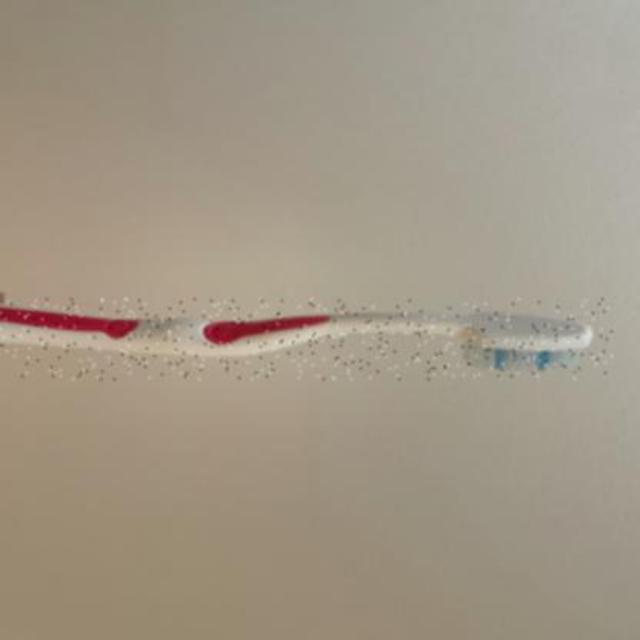toothbrush: (0, 298, 612, 379)
